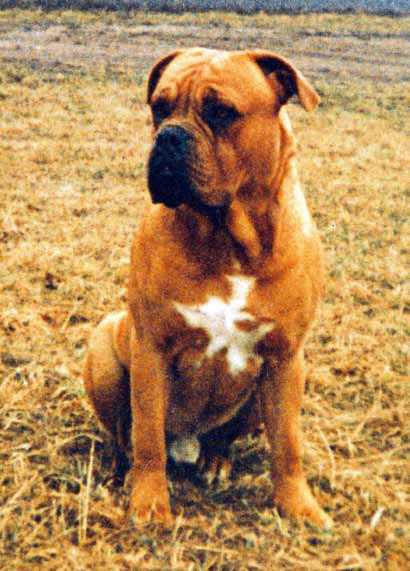dogue_de_bordeaux: (81, 46, 334, 532)
